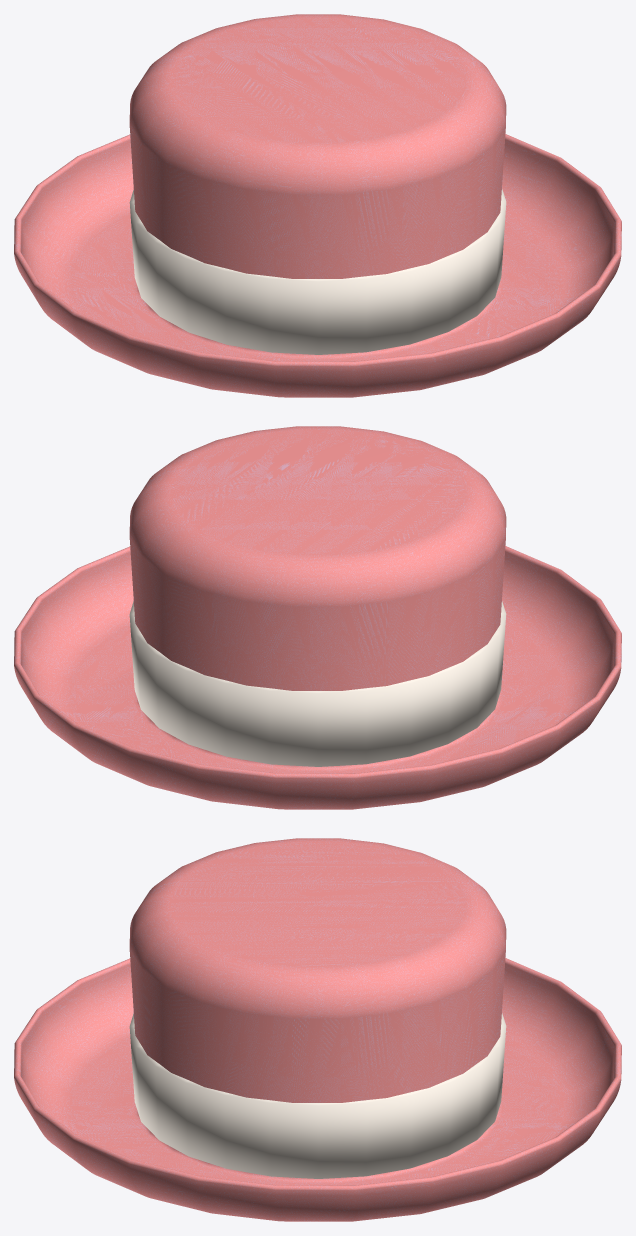
3 renders of one model, top to bottom at view 1: azimuth 30°, elevation 25°; view 2: azimuth 150°, elevation 25°; view 3: azimuth 270°, elevation 25°, orthographic.
Visible parts, largest first — view 1: group_2 (×2), group_1; view 2: group_2 (×2), group_1; view 3: group_2 (×2), group_1.
Boxes of the visible parts, x1,y1,x2,y2 form: group_2 (×2): (14,14,621,397); group_1: (129,189,506,354); group_2 (×2): (14,426,621,809); group_1: (129,601,506,766); group_2 (×2): (14,838,621,1221); group_1: (129,1013,506,1178).
Size of the model in its own units: 3.36 by 3.36 by 1.26.
